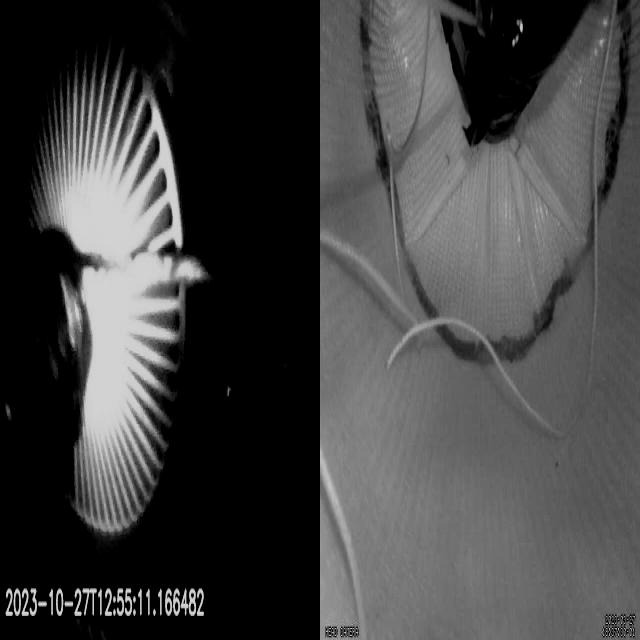red-circle: (359, 0, 633, 367)
